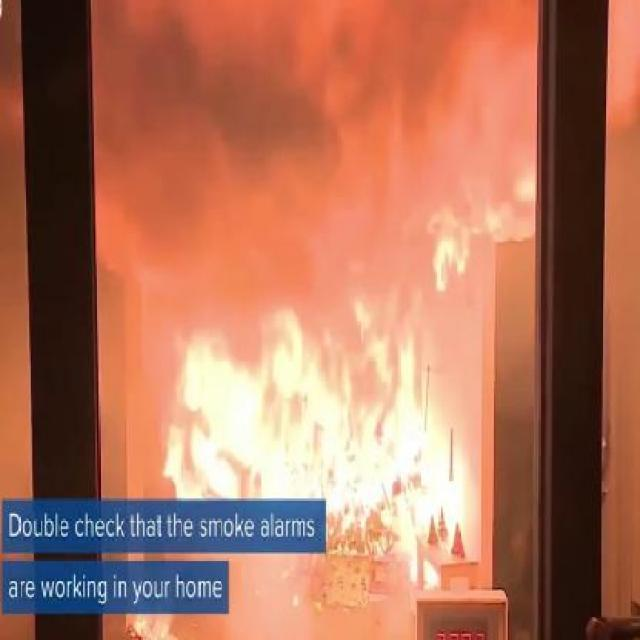fire: (193, 277, 421, 511)
smoke: (132, 19, 331, 173)
